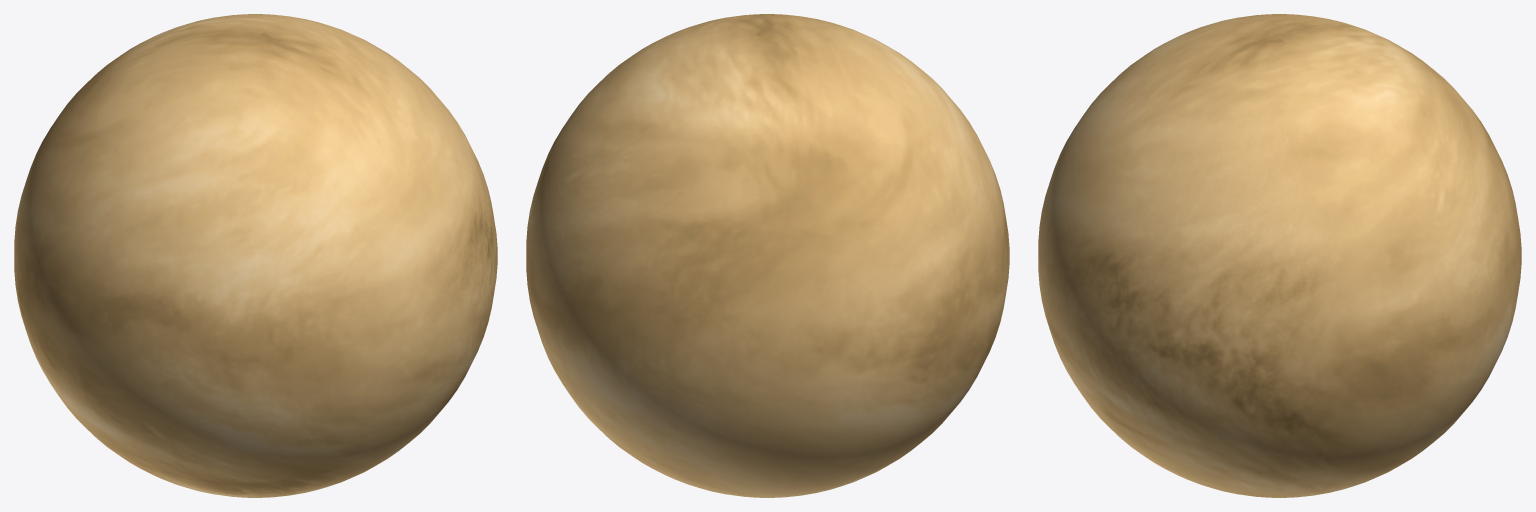
Rendered from venus.glb.
3 views of the same model, side by side, from view 1: azimuth 30°, elevation 25°; view 2: azimuth 150°, elevation 25°; view 3: azimuth 270°, elevation 25° (orthographic).
Visible parts, largest first — view 1: Sphere; view 2: Sphere; view 3: Sphere.
Boxes of the visible parts, bbox=[...] form: Sphere: bbox=[14, 14, 497, 497]; Sphere: bbox=[526, 14, 1009, 497]; Sphere: bbox=[1038, 14, 1521, 497].
Size of the model in its own units: 2 by 2 by 2.
1 material, 1 textured.
